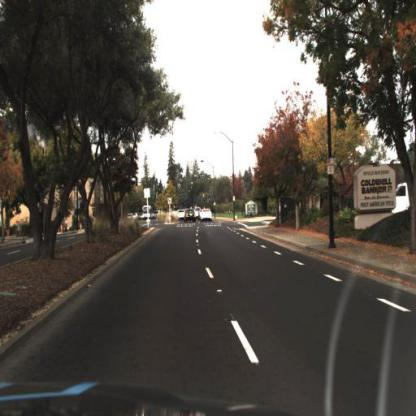car: (176, 206, 186, 219), (200, 209, 210, 219), (186, 212, 195, 221), (178, 209, 184, 218)
truck: (142, 201, 156, 222)
